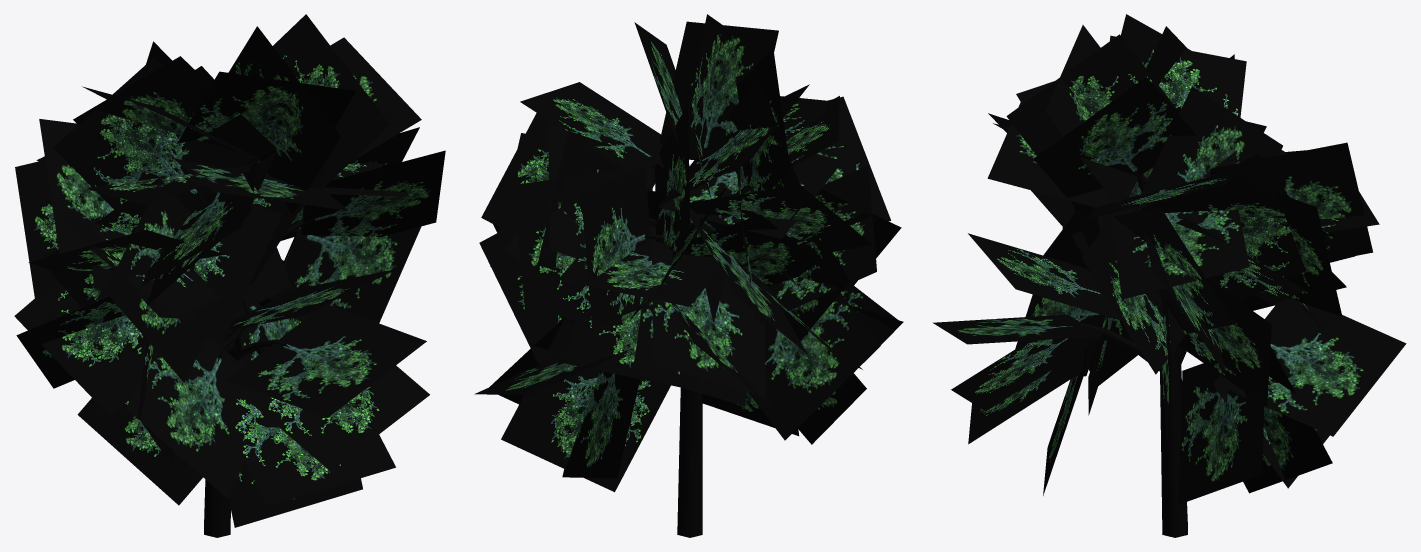
File: tree78.glb
3 views of the same model, side by side, from view 1: azimuth 30°, elevation 25°; view 2: azimuth 150°, elevation 25°; view 3: azimuth 270°, elevation 25° (orthographic). The views are drawn at different scales.
Bounding box in the file's own units: 5.9 × 7.11 × 6.08.
Materials: 2 (1 with a texture image).
